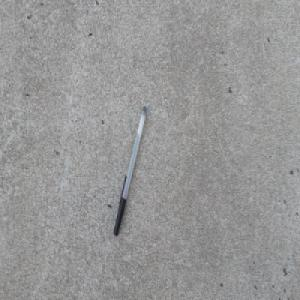Pen: (112, 104, 147, 238)
